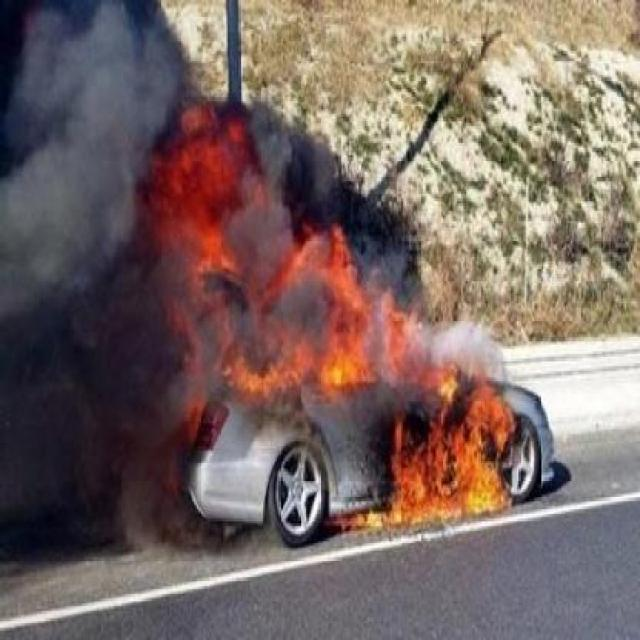Fire: (203, 252, 514, 538)
Smoke: (0, 40, 197, 300)
